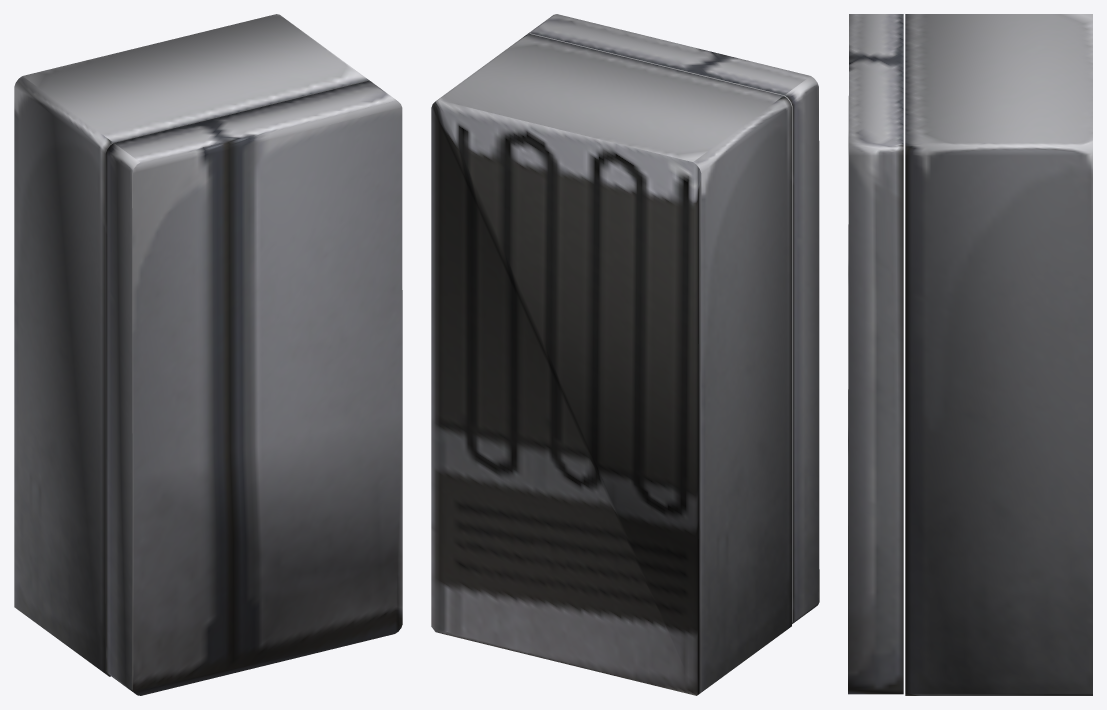
The model's file is W_Fridge3.fbx.
3 views of the same model, side by side, from view 1: azimuth 30°, elevation 25°; view 2: azimuth 150°, elevation 25°; view 3: azimuth 270°, elevation 25° (orthographic). The views are drawn at different scales.
Visible parts, largest first — view 1: W_Fridge3; view 2: W_Fridge3; view 3: W_Fridge3.
Part boxes in pixels (x1,y1,x2,y2): W_Fridge3: [14, 14, 402, 695]; W_Fridge3: [431, 14, 819, 695]; W_Fridge3: [848, 14, 1092, 695].
Bounding box in the file's own units: 0.5449 × 1.03 × 0.4136.
